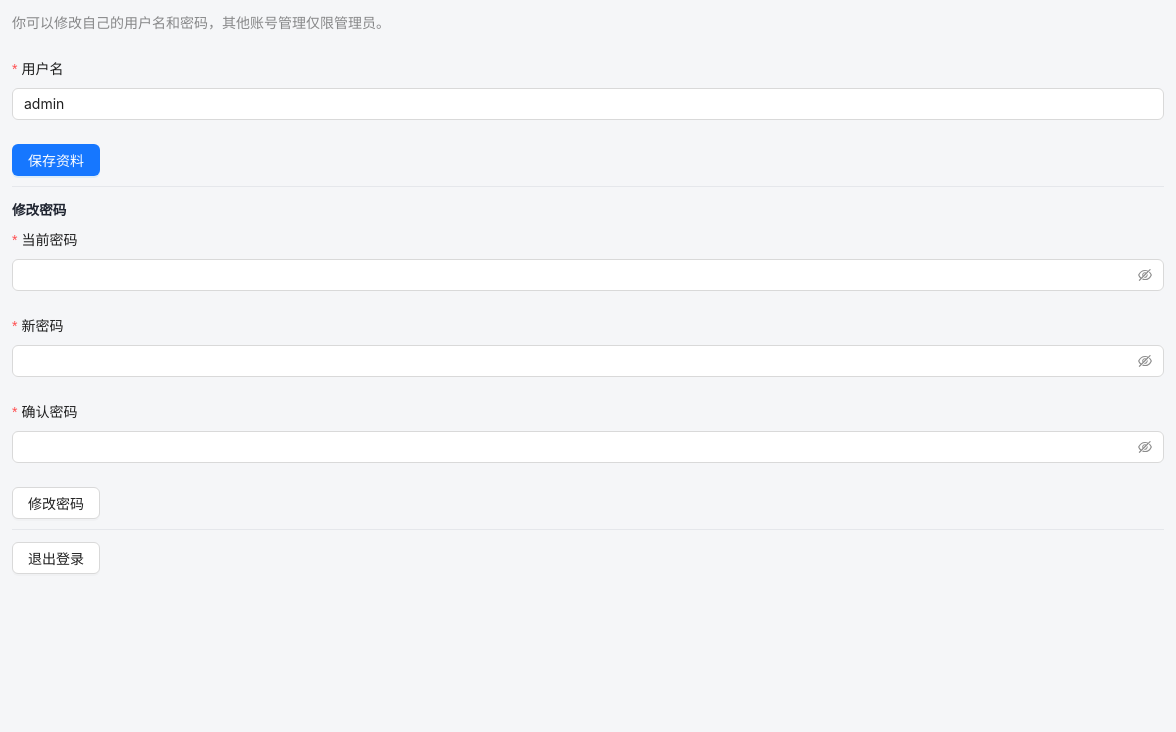
Test case: updates the username with the established PATCH payload and local success feedback
Replace the text in the field with test id "account-profile-username" with "renamed-admin". click: (588, 104)
box: [12, 88, 1164, 120]
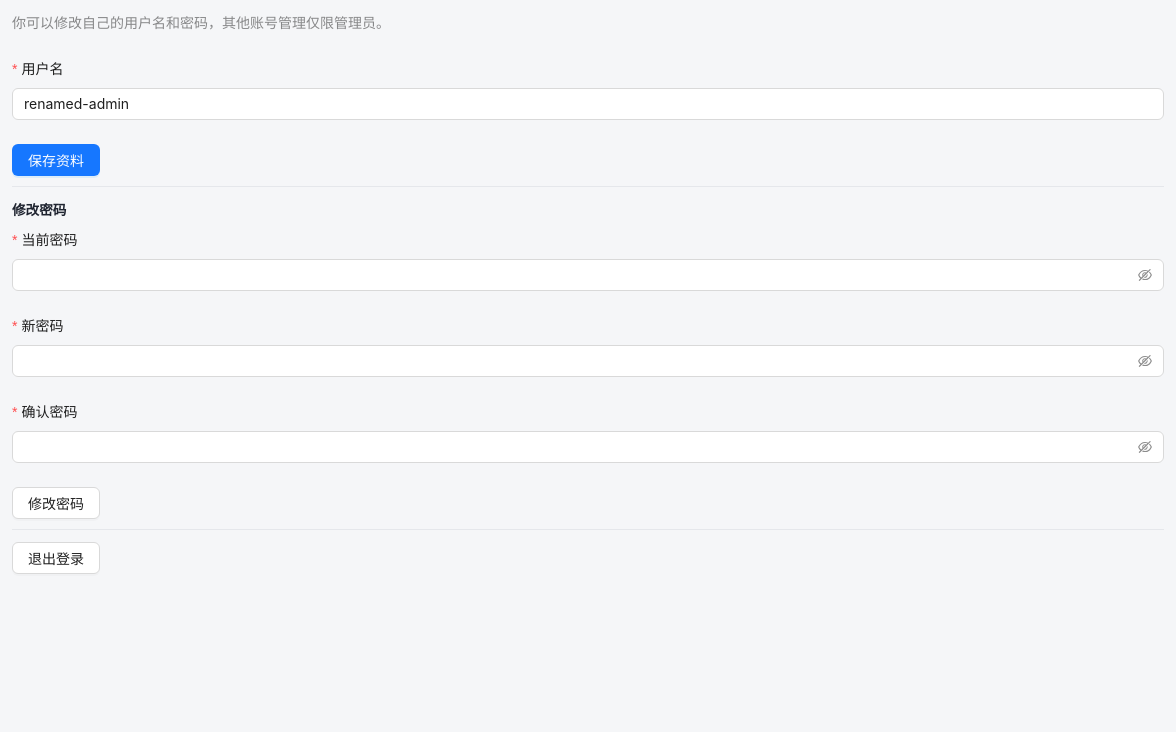
Click the button with test id "account-profile-save". click: (56, 160)
box: [12, 144, 100, 176]
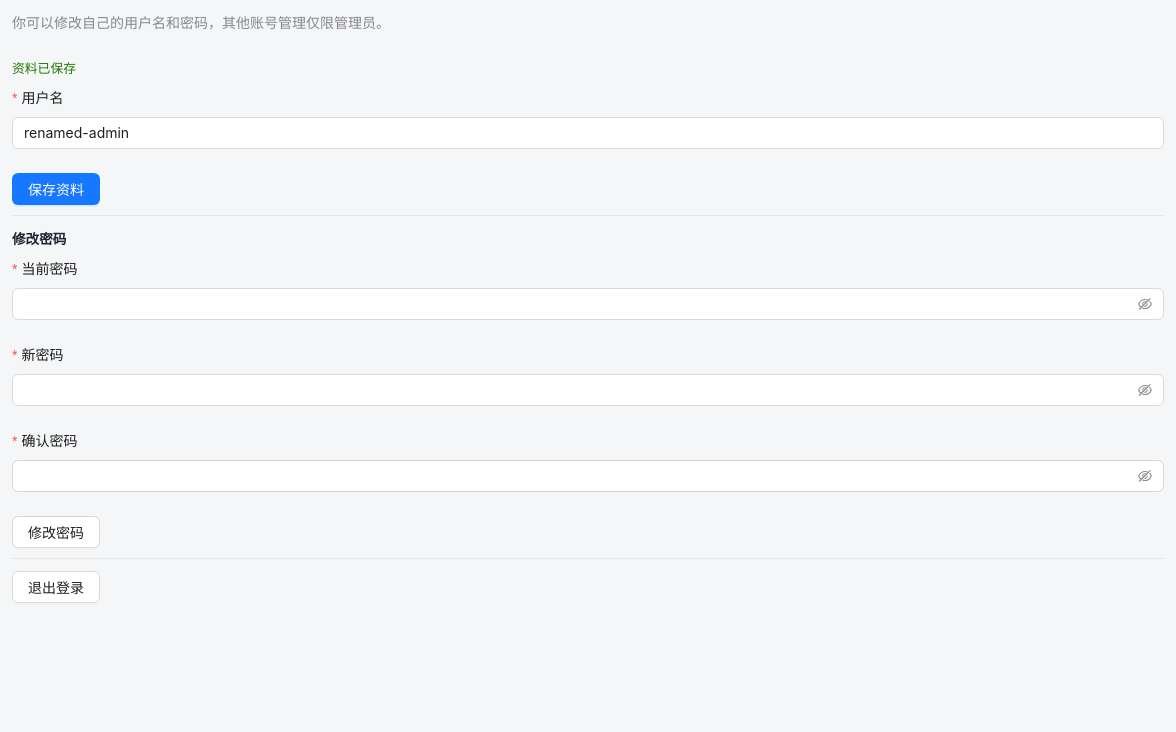
Now the message reads "资料已保存", box [12, 59, 76, 77]
